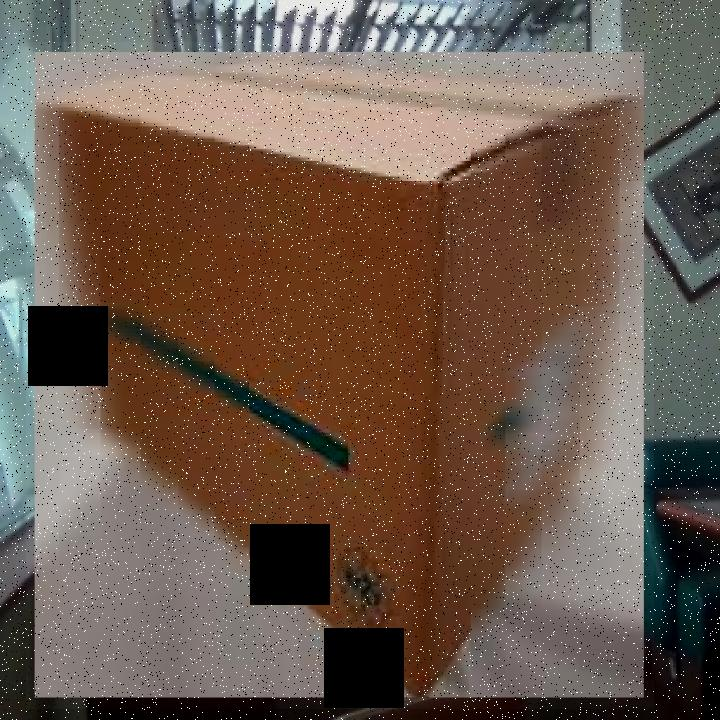box: (26, 42, 654, 709)
